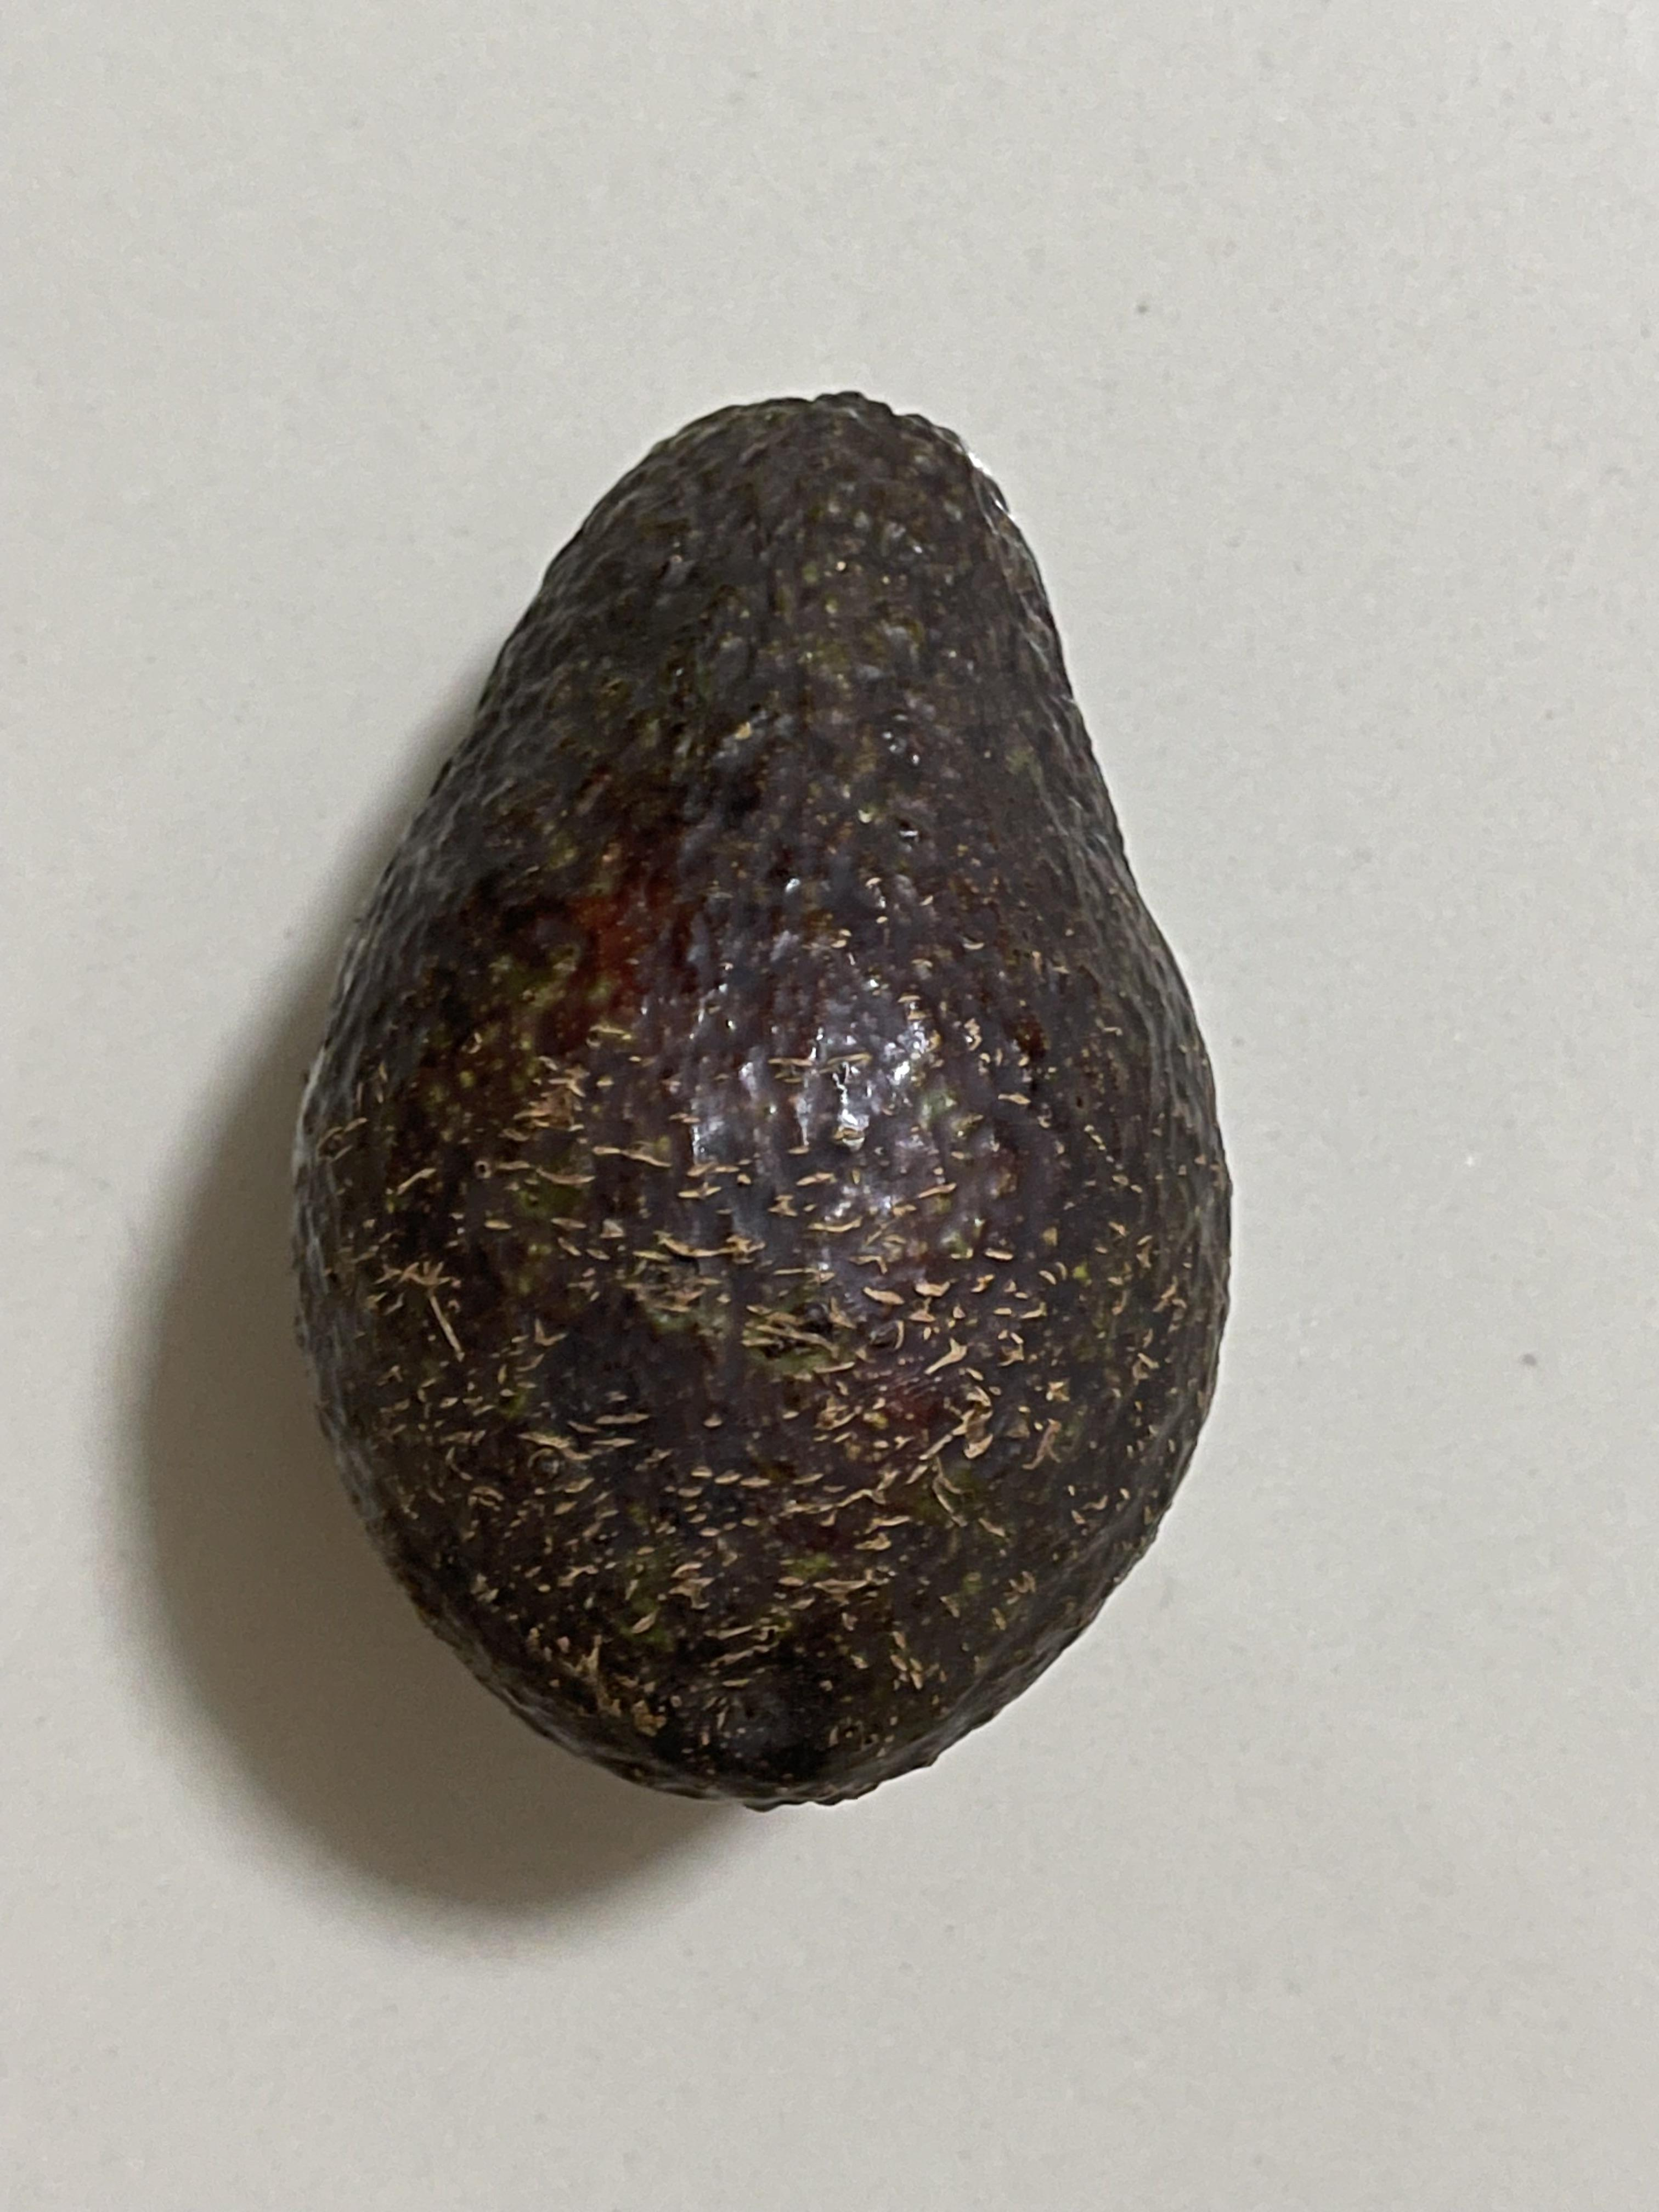Level2: (263, 362, 1262, 1827)
